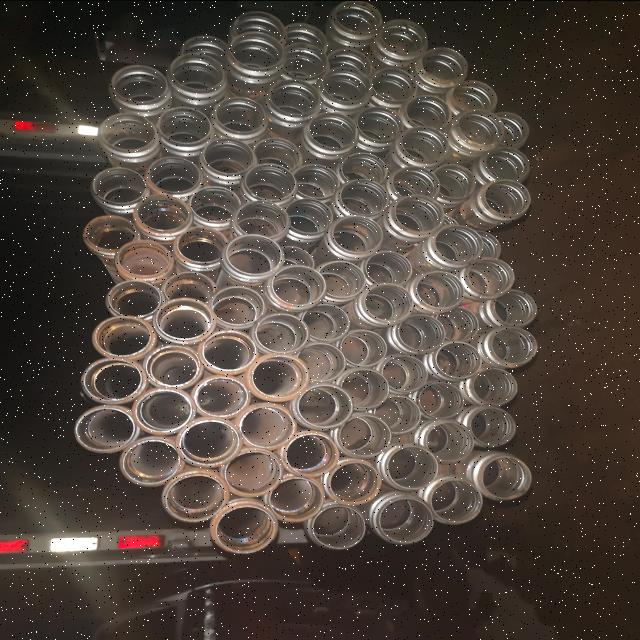pipe: (212, 500, 278, 554), (164, 474, 229, 520), (222, 449, 282, 494), (122, 438, 180, 484), (268, 476, 324, 522), (154, 296, 212, 340), (77, 408, 135, 452), (378, 497, 434, 542), (238, 404, 294, 448), (251, 354, 307, 398), (180, 420, 238, 462), (135, 390, 193, 432), (112, 63, 170, 104), (226, 232, 282, 274), (297, 384, 353, 426), (144, 344, 200, 386), (84, 359, 141, 400), (272, 264, 326, 306), (338, 415, 392, 457), (328, 462, 382, 504), (312, 506, 366, 548), (284, 433, 338, 475), (482, 454, 533, 498), (388, 445, 439, 489), (228, 30, 284, 70), (95, 316, 151, 356), (170, 50, 224, 91), (255, 312, 309, 352), (212, 284, 264, 325), (100, 111, 156, 149), (108, 279, 164, 317), (431, 480, 481, 522), (203, 330, 255, 370), (147, 155, 201, 193), (236, 200, 290, 238), (427, 421, 475, 463), (233, 9, 286, 47), (194, 378, 247, 416), (468, 406, 518, 446), (268, 80, 320, 118), (341, 368, 390, 408), (91, 166, 145, 202), (85, 212, 136, 250), (416, 268, 464, 308), (203, 138, 256, 174), (178, 225, 228, 263), (246, 162, 296, 200), (394, 194, 444, 232), (296, 342, 346, 380), (215, 95, 266, 132), (158, 106, 210, 142), (118, 238, 170, 274), (190, 185, 242, 221), (332, 215, 382, 252), (321, 66, 372, 102), (365, 282, 412, 321), (284, 196, 332, 234), (398, 313, 446, 351), (373, 394, 421, 432), (309, 111, 358, 148), (162, 270, 215, 304), (252, 137, 302, 173), (391, 164, 441, 200), (282, 41, 328, 80), (381, 354, 428, 392), (301, 302, 349, 339), (138, 196, 190, 230), (340, 178, 389, 214), (492, 327, 538, 365), (434, 225, 481, 262), (317, 260, 365, 296), (401, 126, 449, 162), (468, 258, 516, 294), (357, 105, 403, 142), (492, 289, 538, 326), (473, 366, 519, 403), (436, 341, 482, 378), (381, 18, 428, 54), (422, 46, 468, 82), (484, 180, 530, 216), (365, 250, 412, 285), (180, 35, 228, 69), (334, 1, 382, 35), (450, 80, 498, 114), (432, 163, 476, 200), (294, 162, 339, 198), (404, 94, 449, 130), (484, 146, 530, 181), (341, 331, 387, 366), (372, 66, 416, 102), (435, 304, 479, 340), (282, 22, 328, 56), (342, 151, 388, 185), (458, 110, 504, 144), (420, 381, 462, 418), (326, 47, 371, 78), (491, 110, 528, 146), (277, 246, 315, 272), (470, 229, 502, 259)
